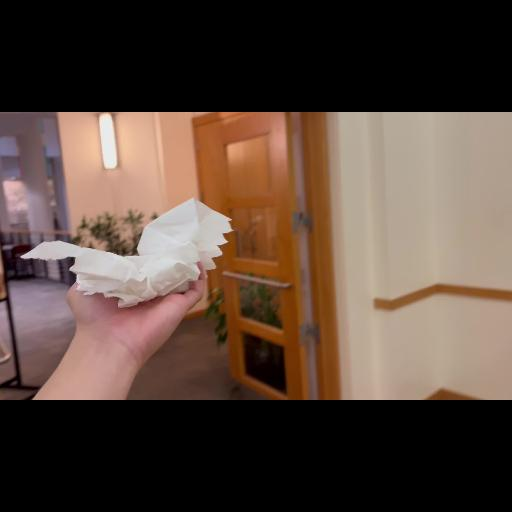napkin: (14, 195, 236, 313)
